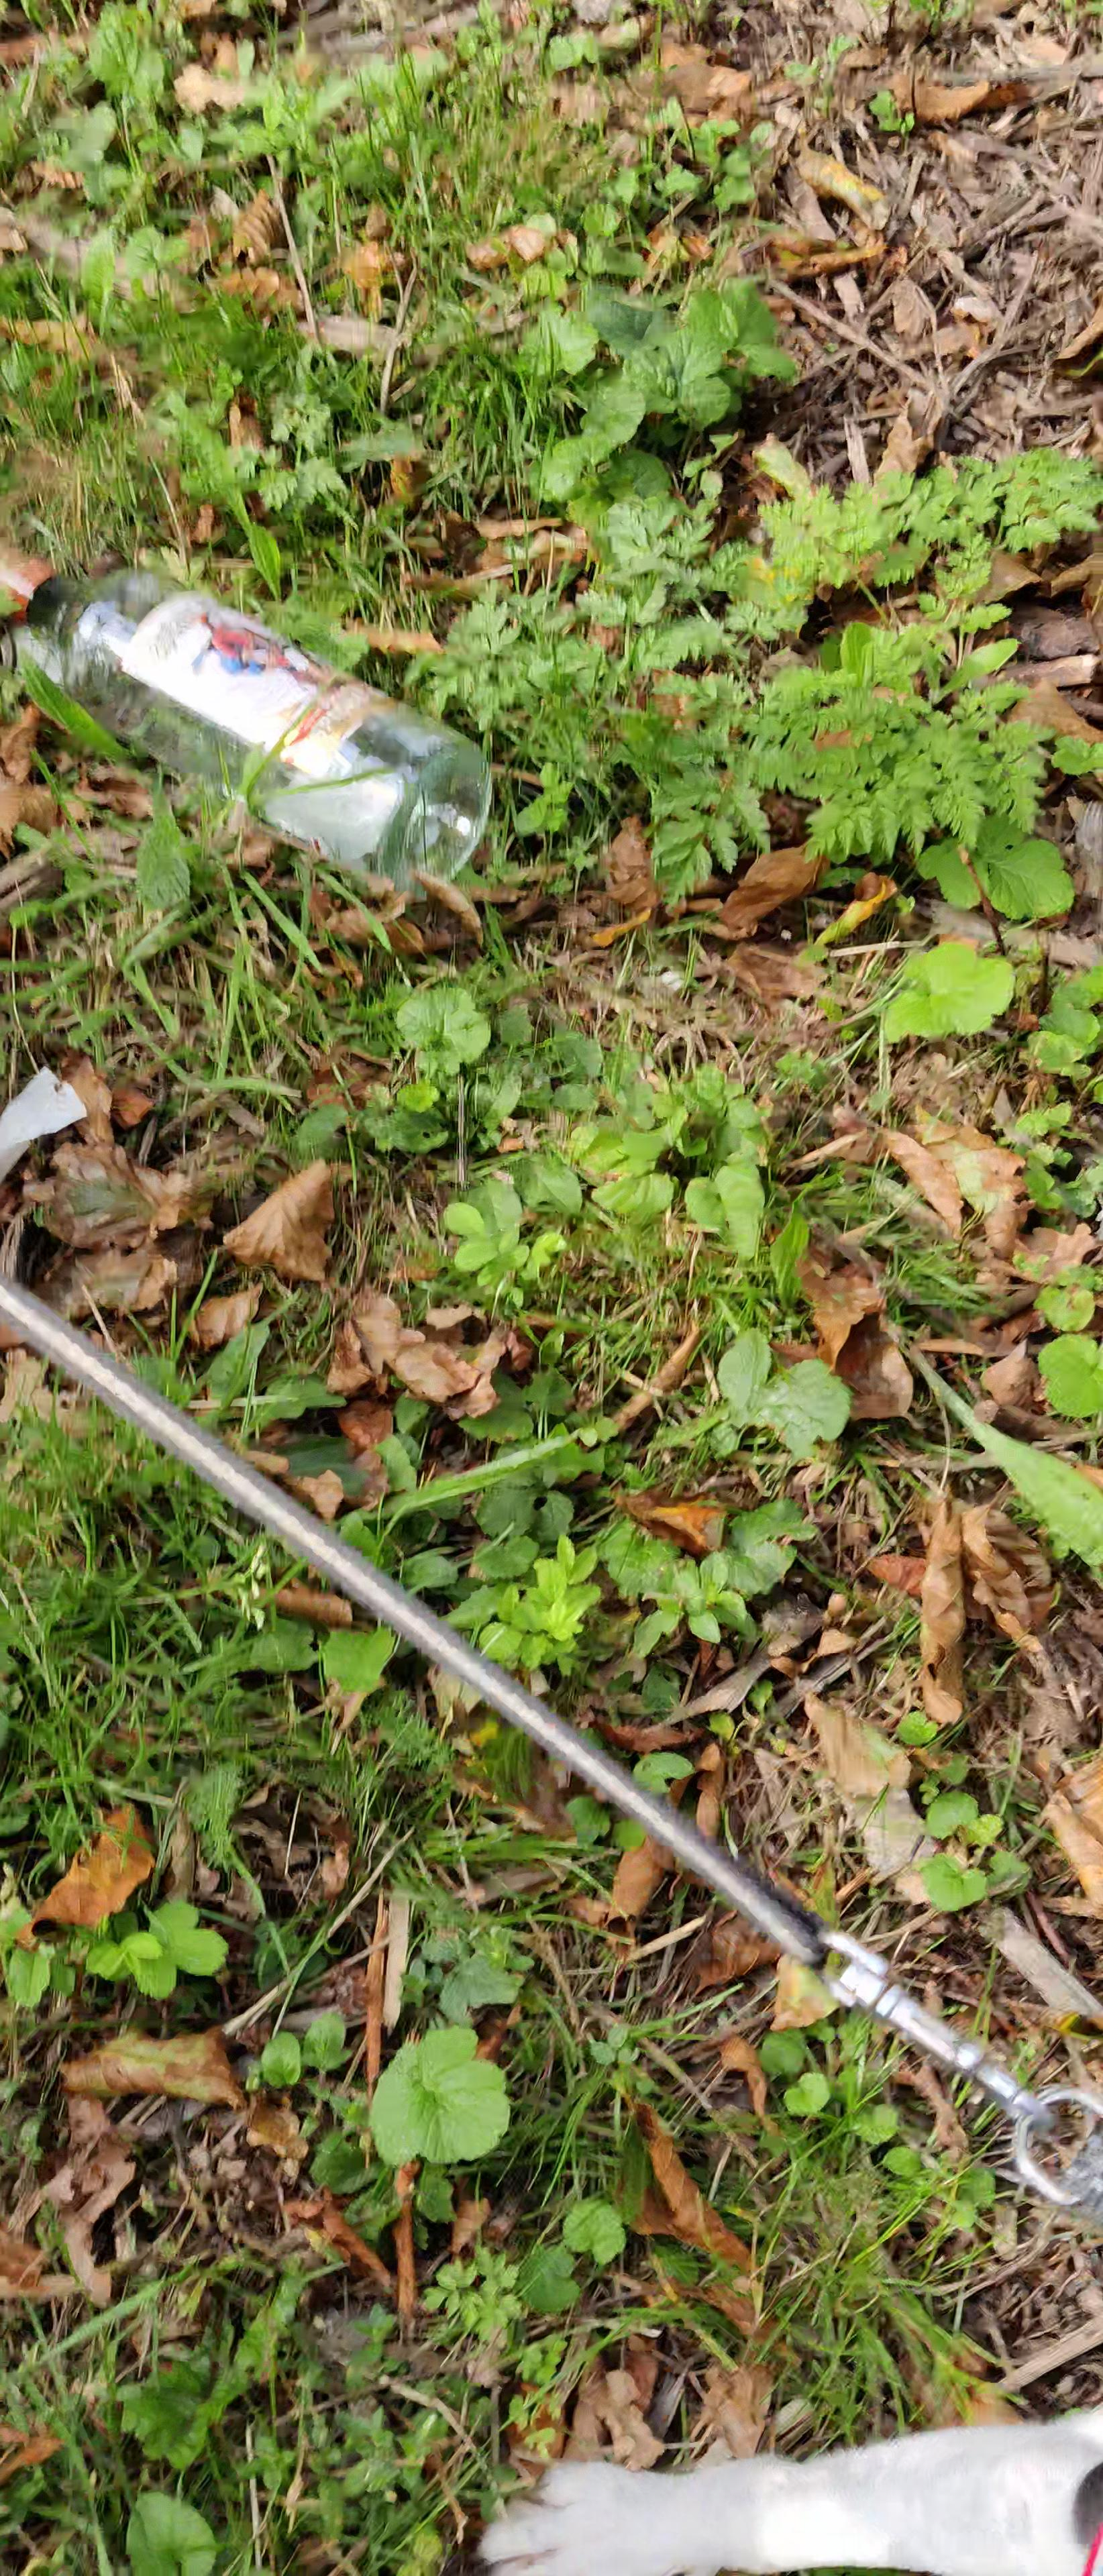Dog: (444, 2364, 1103, 2576)
